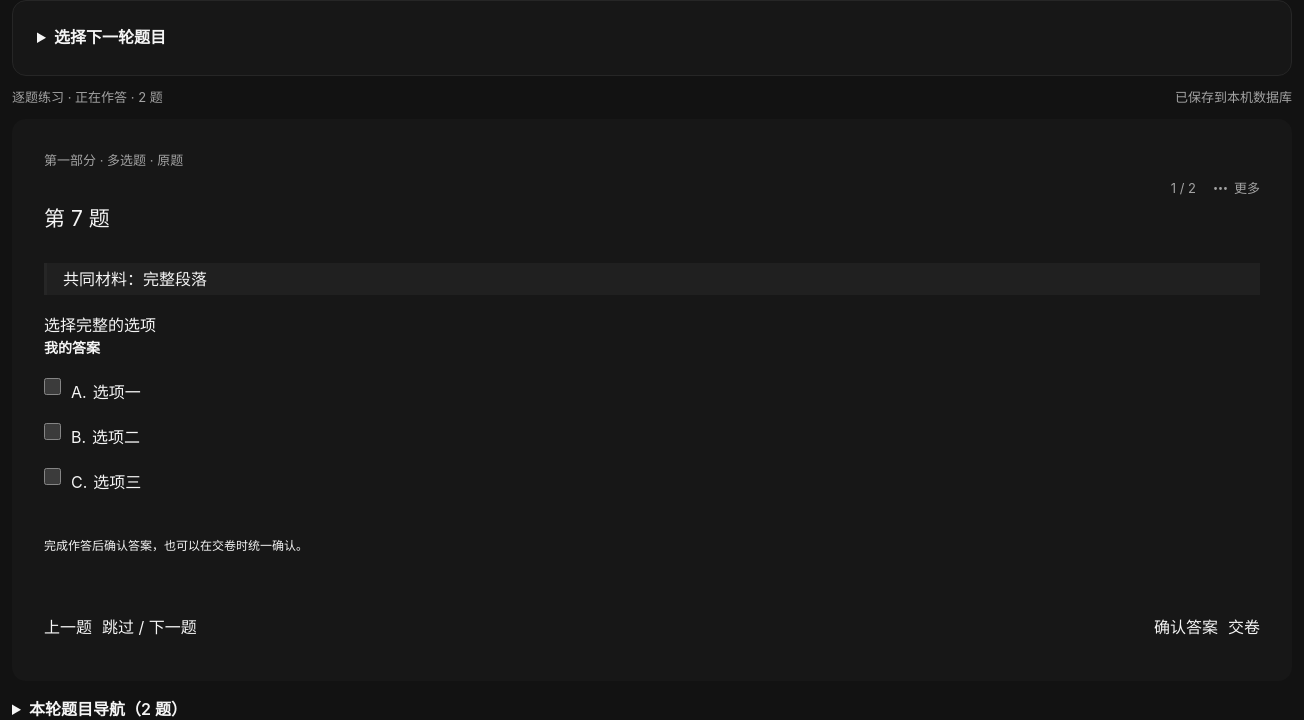
Test case: waits for multi-answer confirmation and refuses an empty confirmation
The image size is (1304, 720).
Expected: the button "确认答案" is disabled, [1154,605,1218,649]
Click the checkbox labelled "A. 选项一" at (52, 387), box [44,378,61,396]
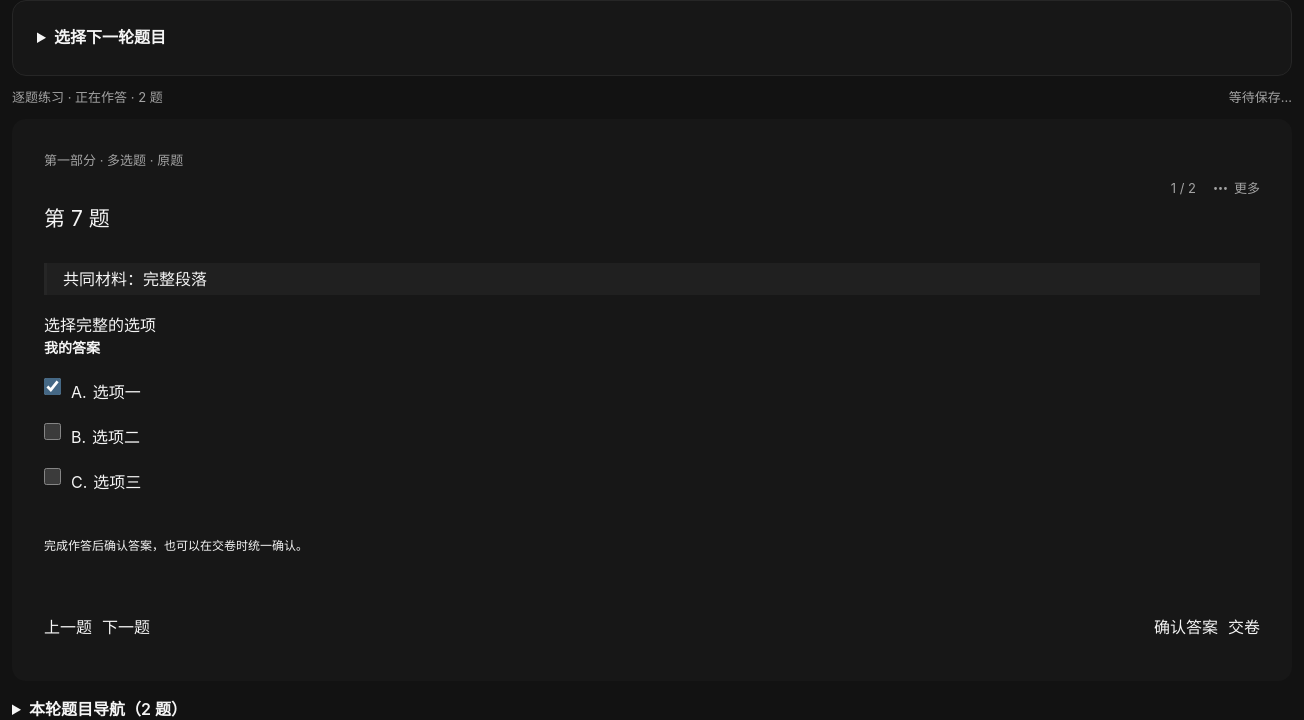
Click the checkbox labelled "C. 选项三" at (52, 477), box [44,468,61,485]
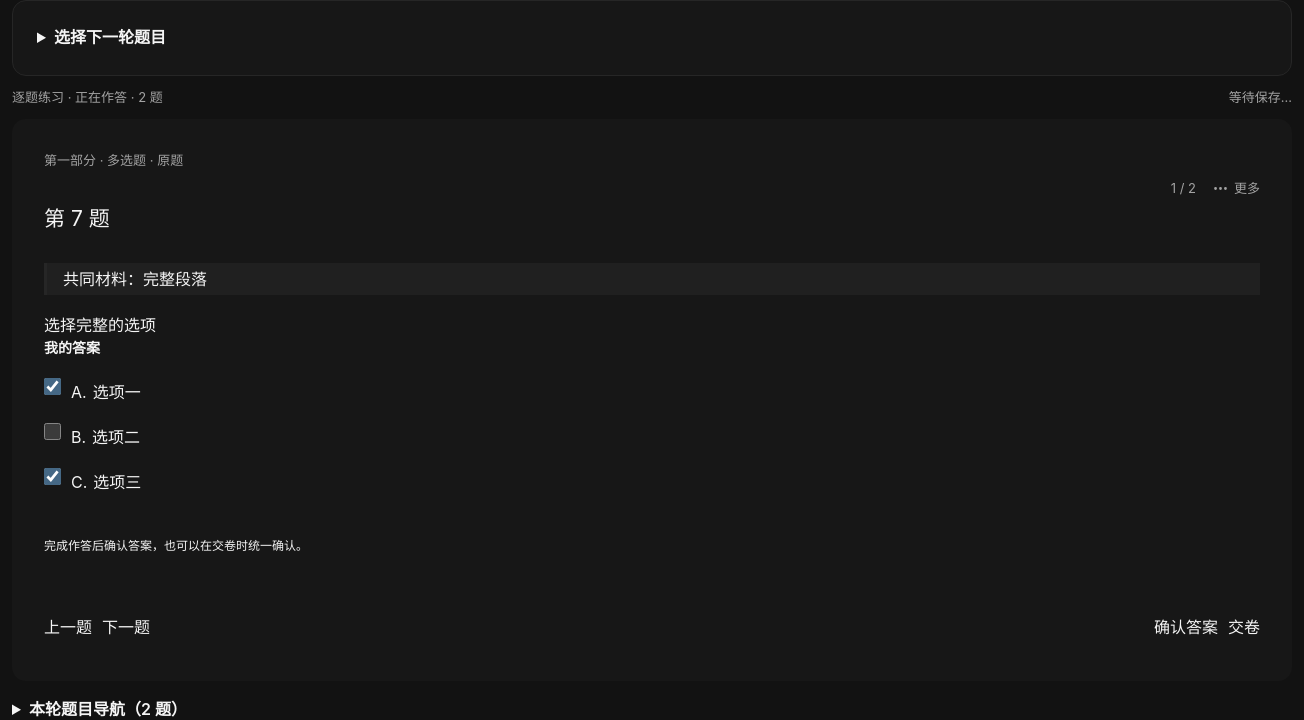
Click the button "确认答案" at (1186, 627), box [1154,605,1218,649]
(page scrolled)
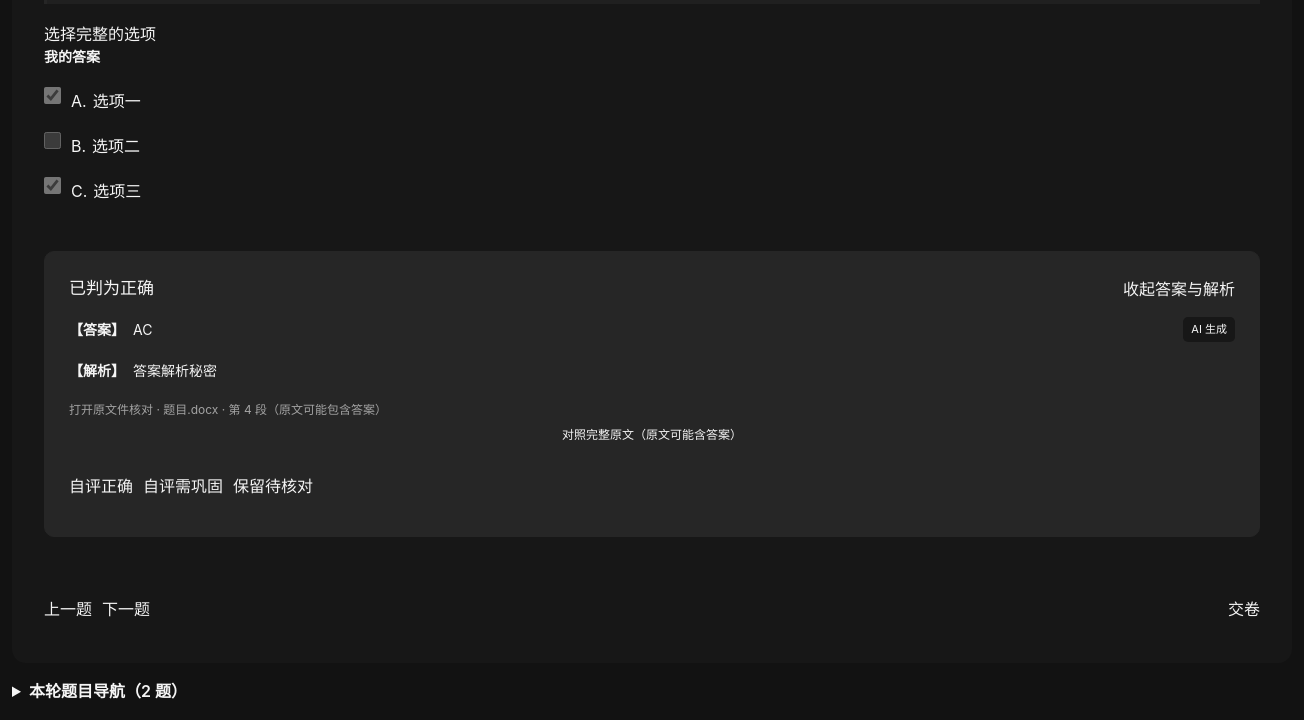
Now the element that starts with "已判为正确" is shown, box [69,278,154,298]
